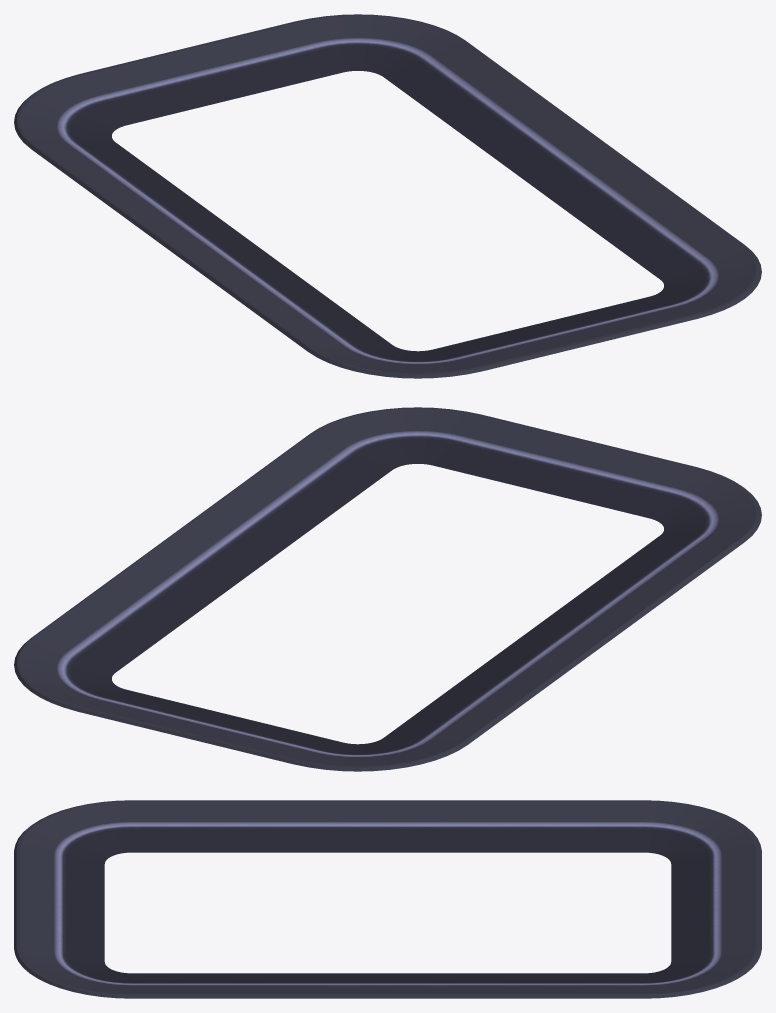
File: pistfbx.fbx
The picture shows the model from 3 angles, top to bottom: view 1: azimuth 30°, elevation 25°; view 2: azimuth 150°, elevation 25°; view 3: azimuth 270°, elevation 25°; orthographic projection. The views are drawn at different scales.
Visible parts, largest first — view 1: Plane; view 2: Plane; view 3: Plane.
Part boxes in pixels (<box>): Plane: <box>14,14,761,378</box>; Plane: <box>14,407,761,771</box>; Plane: <box>14,800,761,998</box>.
Size of the model in its own units: 1804 by 66.11 by 2890.
